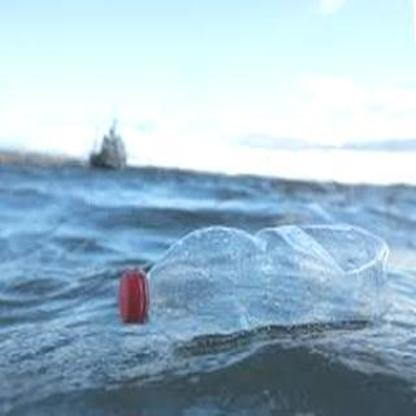plastic bottle: (115, 223, 389, 339)
